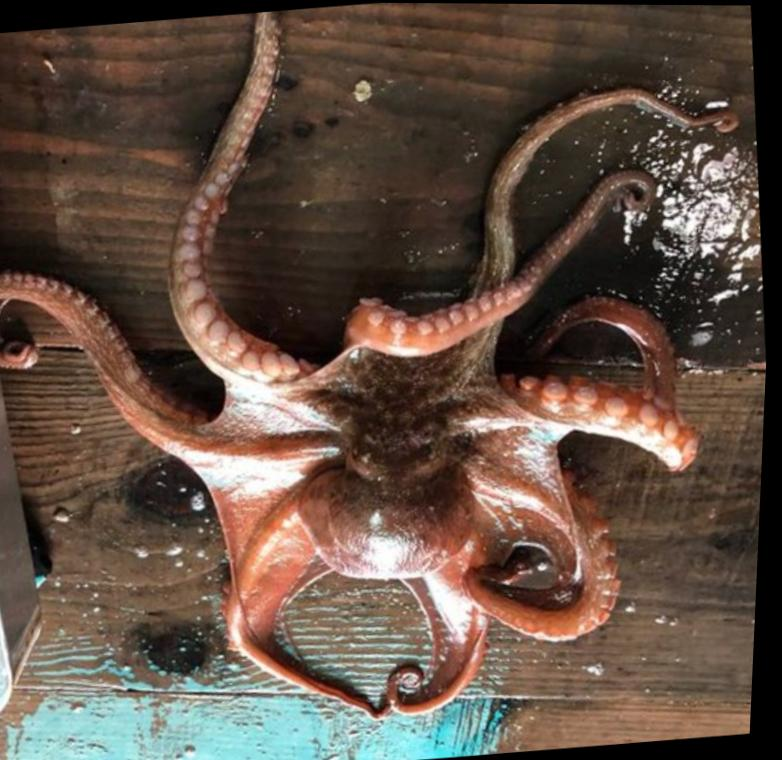Cephalopod: (0, 11, 740, 716)
